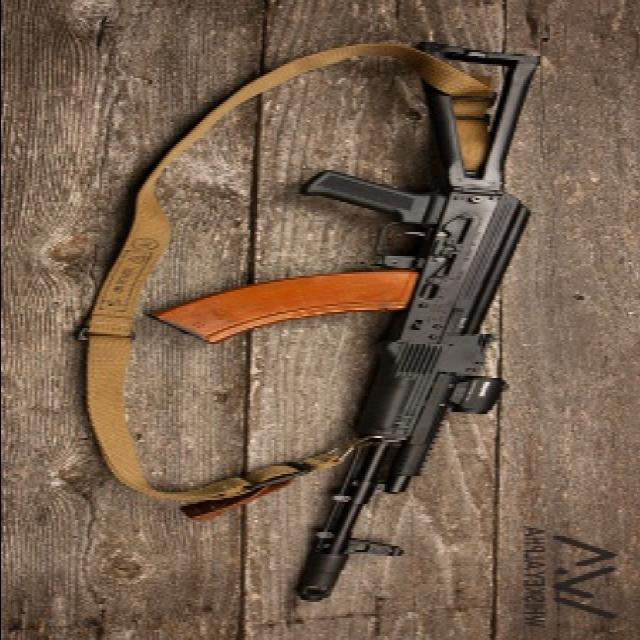rifle: (286, 43, 548, 615)
